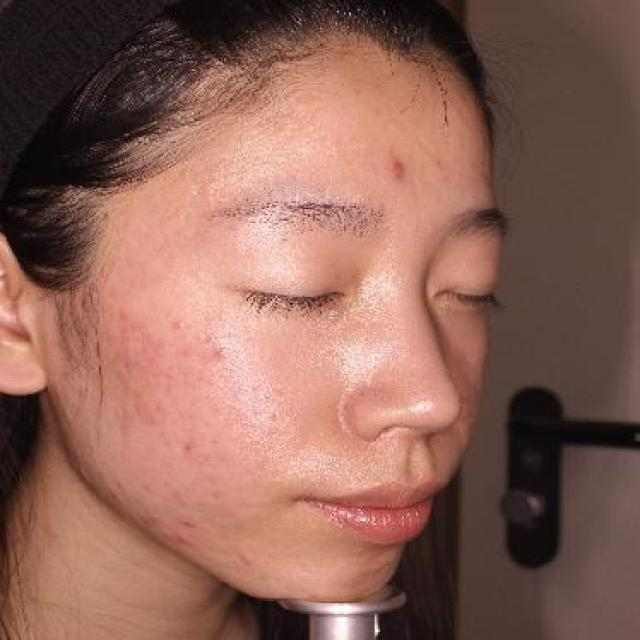papules: (376, 150, 411, 188), (171, 506, 211, 534), (168, 524, 202, 554), (231, 549, 258, 566), (140, 511, 162, 526)
pustules: (158, 311, 194, 332), (202, 342, 234, 363)
